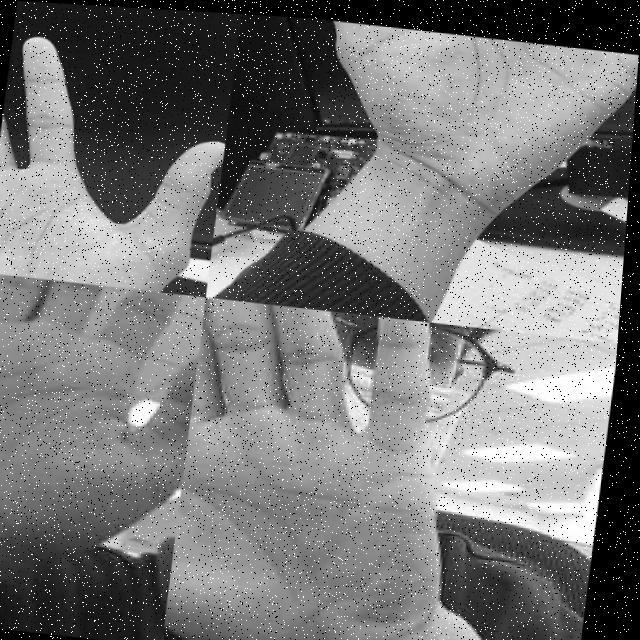no-gloves: (169, 293, 476, 640), (259, 12, 640, 232), (0, 271, 209, 589), (0, 31, 237, 294)
